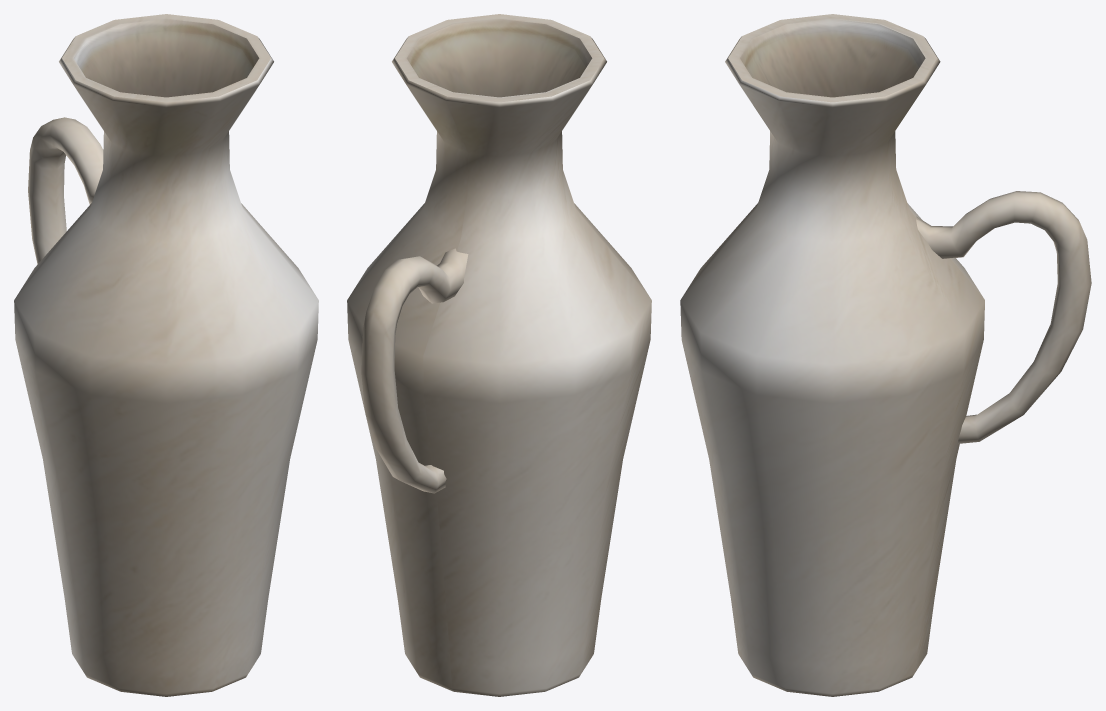
The model's file is kabin.fbx.
3 views of the same model, side by side, from view 1: azimuth 30°, elevation 25°; view 2: azimuth 150°, elevation 25°; view 3: azimuth 270°, elevation 25° (orthographic).
Parts seen in each view (by area): view 1: _02_kabin; view 2: _02_kabin; view 3: _02_kabin.
Boxes of the visible parts, x1,y1,x2,y2 form: _02_kabin: (14, 14, 318, 696); _02_kabin: (347, 14, 651, 696); _02_kabin: (680, 14, 1091, 696).
Bounding box in the file's own units: 1.82 × 3.96 × 2.46.
